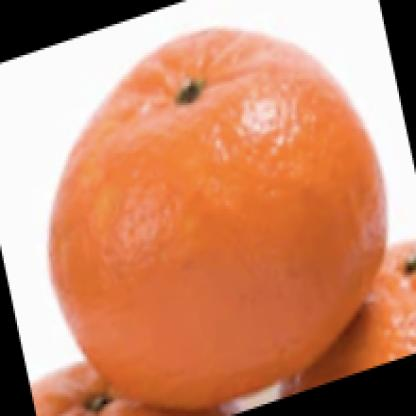fresh: (49, 32, 389, 409)
